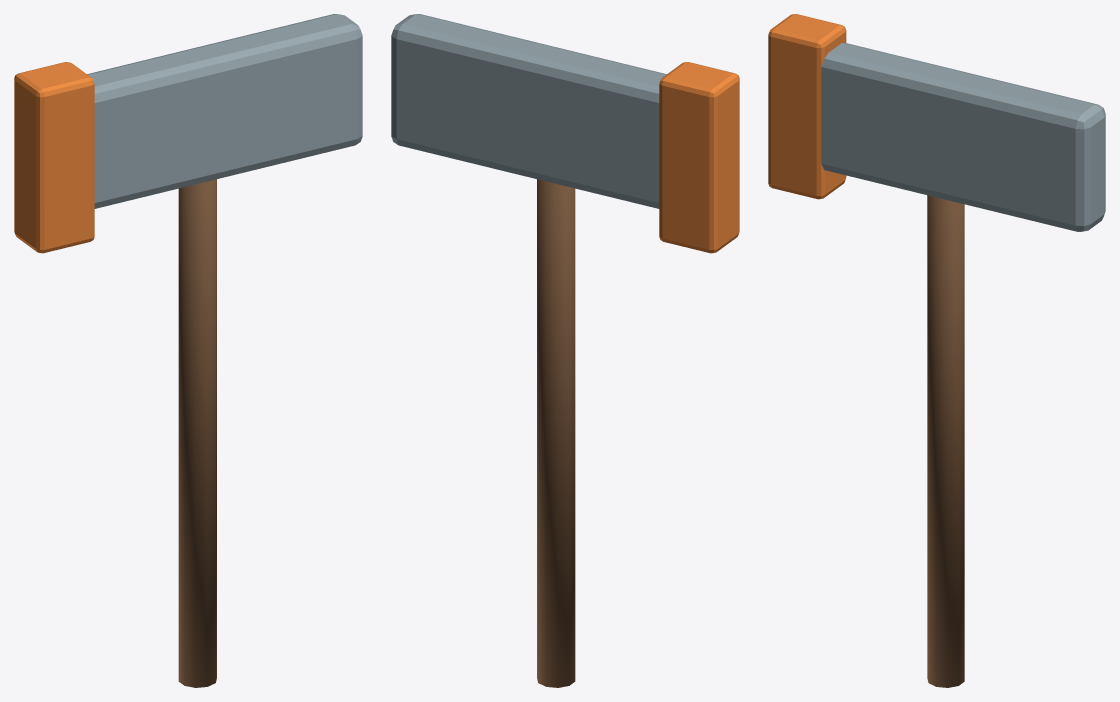
The model's file is axe.glb.
The picture shows the model from 3 angles, left to right: view 1: azimuth 30°, elevation 25°; view 2: azimuth 150°, elevation 25°; view 3: azimuth 330°, elevation 25°; orthographic projection. The views are drawn at different scales.
Parts seen in each view (by area): view 1: 02_EmberBreaker_AxeHead.001, 02_EmberBreaker_AxeShaft.001, 02_EmberBreaker_AxeEdge.001; view 2: 02_EmberBreaker_AxeHead.001, 02_EmberBreaker_AxeShaft.001, 02_EmberBreaker_AxeEdge.001; view 3: 02_EmberBreaker_AxeHead.001, 02_EmberBreaker_AxeShaft.001, 02_EmberBreaker_AxeEdge.001.
Boxes of the visible parts, bbox=[...] form: 02_EmberBreaker_AxeHead.001: bbox=[87, 14, 362, 208]; 02_EmberBreaker_AxeShaft.001: bbox=[178, 179, 216, 687]; 02_EmberBreaker_AxeEdge.001: bbox=[14, 62, 94, 253]; 02_EmberBreaker_AxeHead.001: bbox=[391, 14, 666, 208]; 02_EmberBreaker_AxeShaft.001: bbox=[537, 179, 575, 687]; 02_EmberBreaker_AxeEdge.001: bbox=[659, 62, 739, 253]; 02_EmberBreaker_AxeHead.001: bbox=[821, 43, 1105, 231]; 02_EmberBreaker_AxeShaft.001: bbox=[927, 195, 964, 687]; 02_EmberBreaker_AxeEdge.001: bbox=[768, 14, 846, 199].
Size of the model in its own units: 0.4825 by 0.895 by 0.07.
